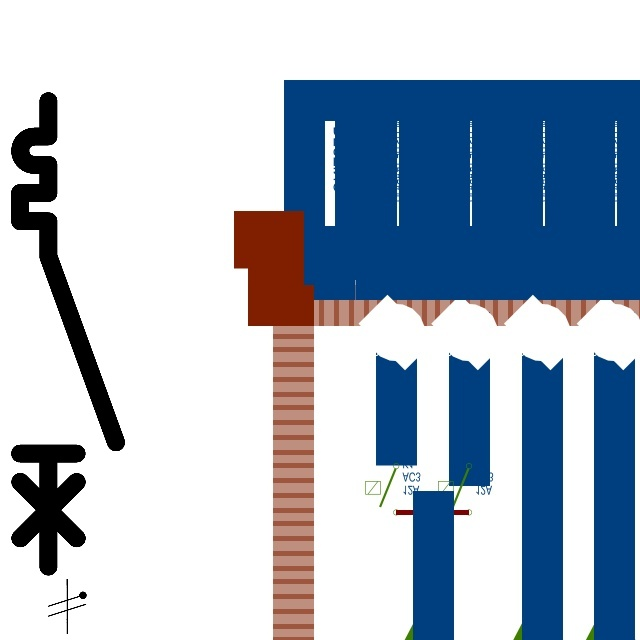interruptor_termomagnetico: (8, 89, 128, 579)
